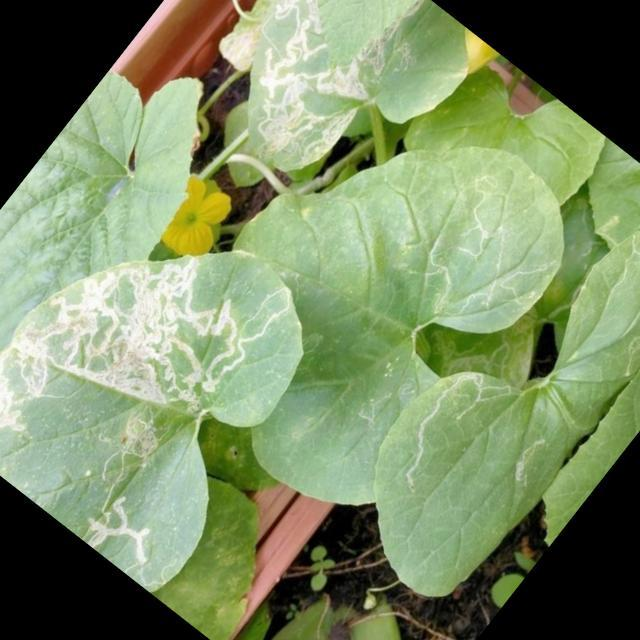Tomato target spot leaf: (0, 160, 365, 599)
